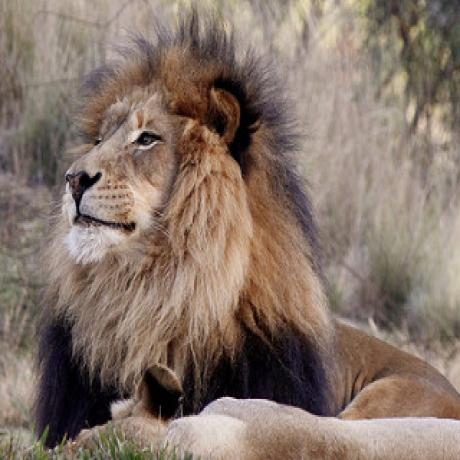Lion: (27, 9, 460, 419)
